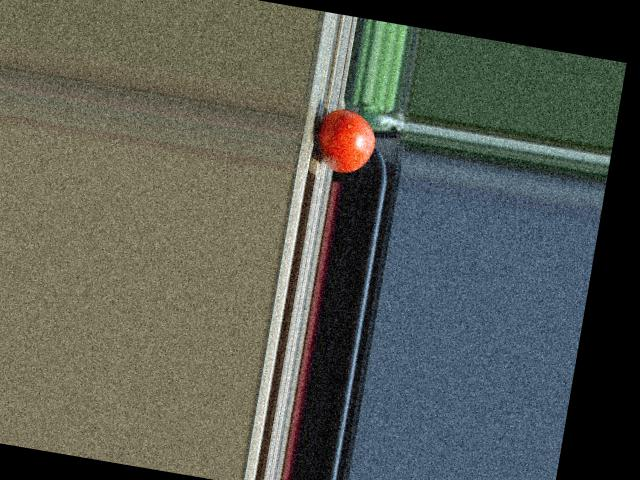tomato: (313, 105, 380, 176)
